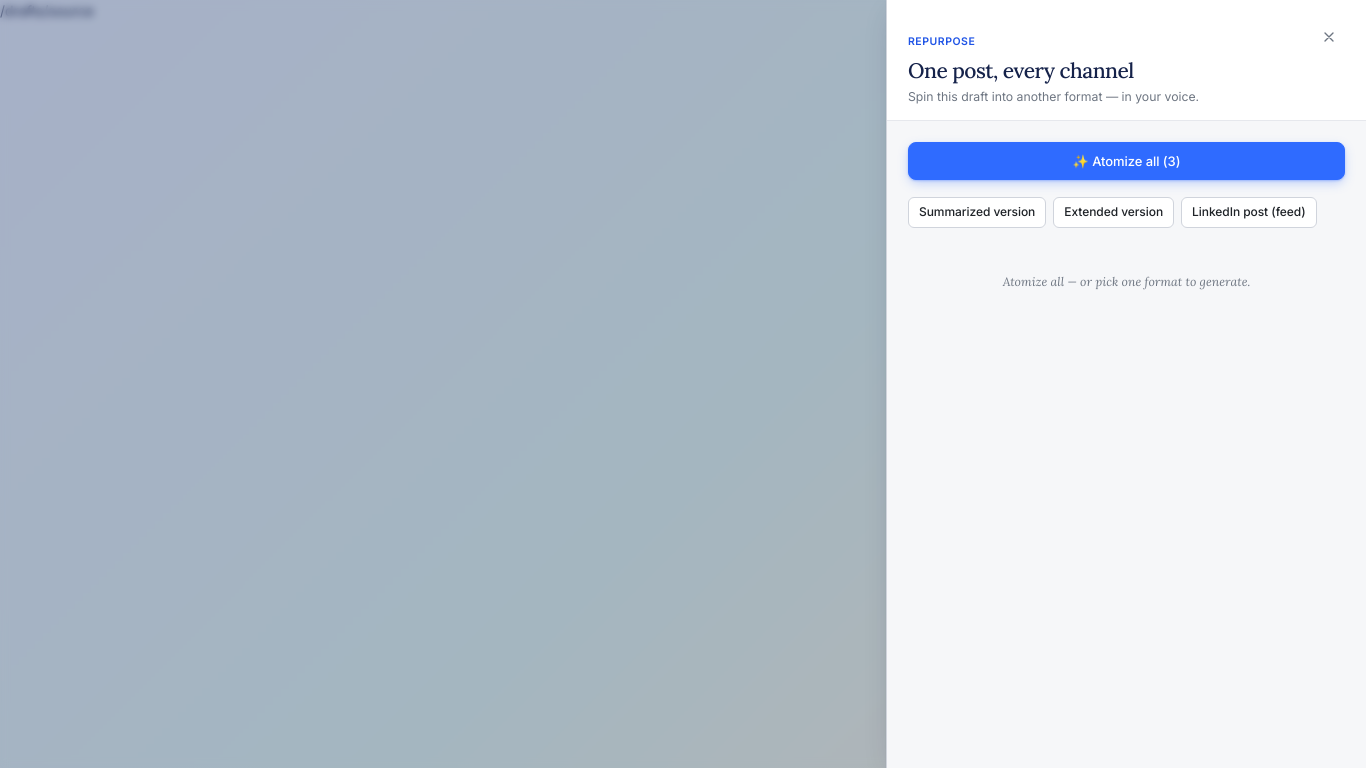
Test: RepurposePanel length variations › shows actual and target lengths for a controlled preview
Click the button "Summarized version" at (977, 212), box [908,197,1046,228]
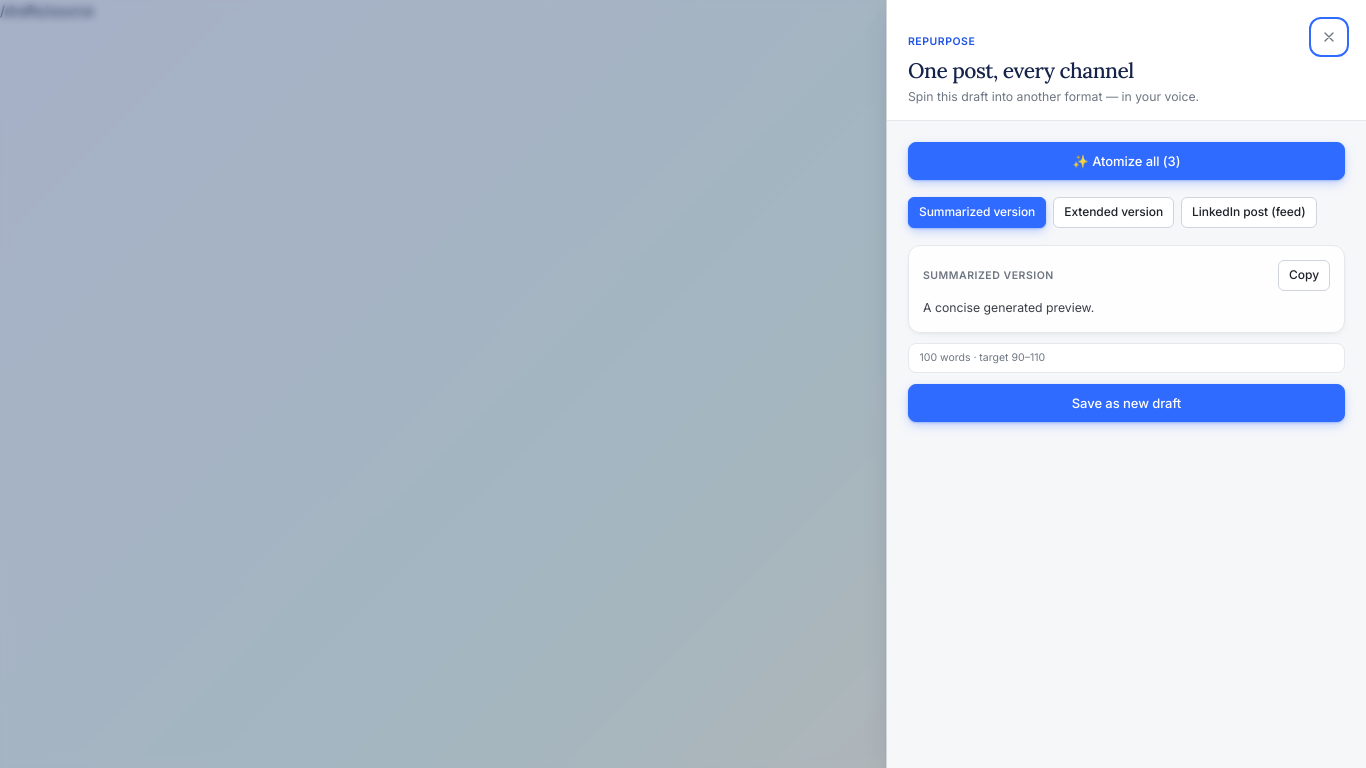
Now the text "100 words · target 90–110" is shown, box [920,351,1045,364]
